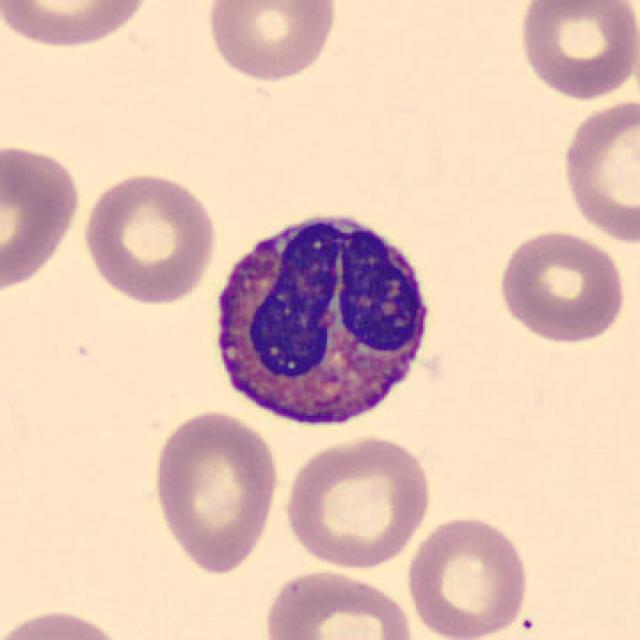Eosinophil: (199, 194, 445, 442)
RBC: (148, 407, 282, 577), (279, 430, 436, 571), (78, 167, 220, 307), (402, 513, 533, 640), (492, 226, 630, 346), (0, 139, 84, 296), (514, 0, 640, 102), (556, 95, 638, 245), (201, 0, 341, 85), (261, 566, 418, 640), (0, 0, 156, 51), (2, 603, 133, 640)
